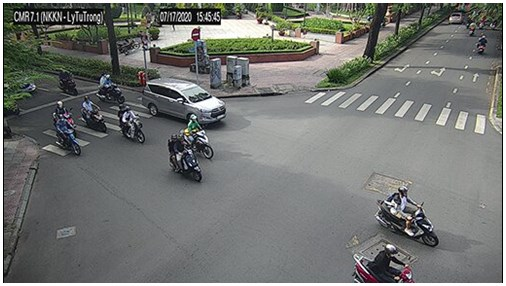xe_hoi: (143, 77, 227, 124), (8, 72, 37, 98), (448, 11, 464, 25)
xe_may: (375, 187, 438, 247), (353, 245, 415, 282), (168, 135, 202, 181), (181, 114, 214, 159), (117, 103, 147, 144), (55, 114, 82, 155), (81, 96, 108, 133), (97, 73, 126, 102), (52, 101, 75, 130), (57, 66, 78, 96), (115, 36, 141, 54), (477, 35, 486, 54), (477, 15, 486, 31), (469, 21, 476, 37), (465, 15, 471, 30)
